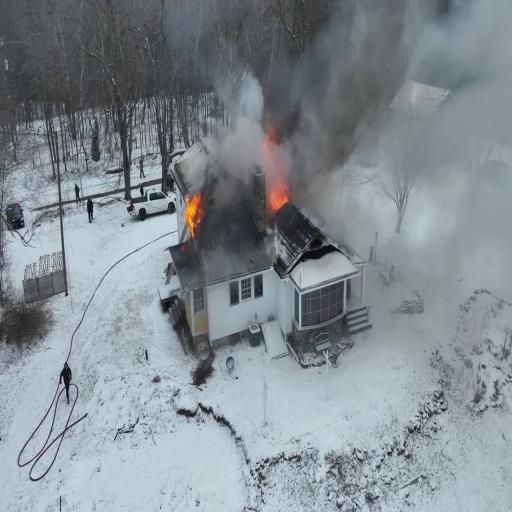fire: (181, 184, 202, 228)
smoke: (326, 54, 400, 164)
